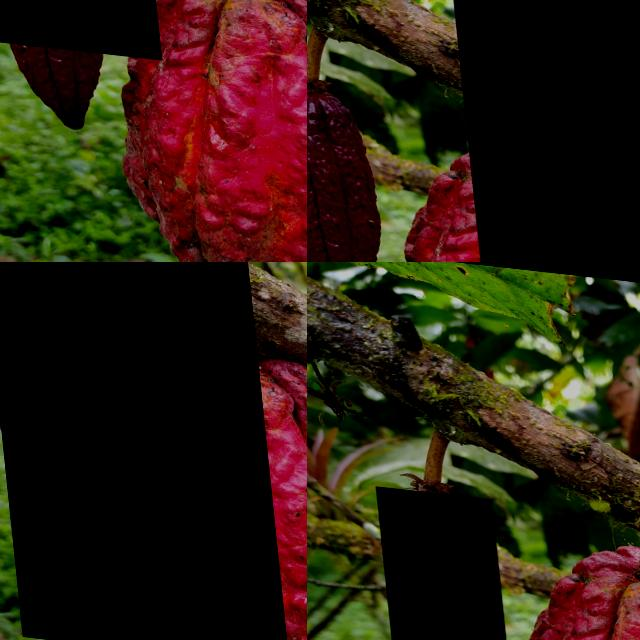Sana: (0, 262, 276, 640), (448, 0, 640, 262), (307, 23, 443, 262), (307, 80, 463, 262), (371, 484, 504, 640)
